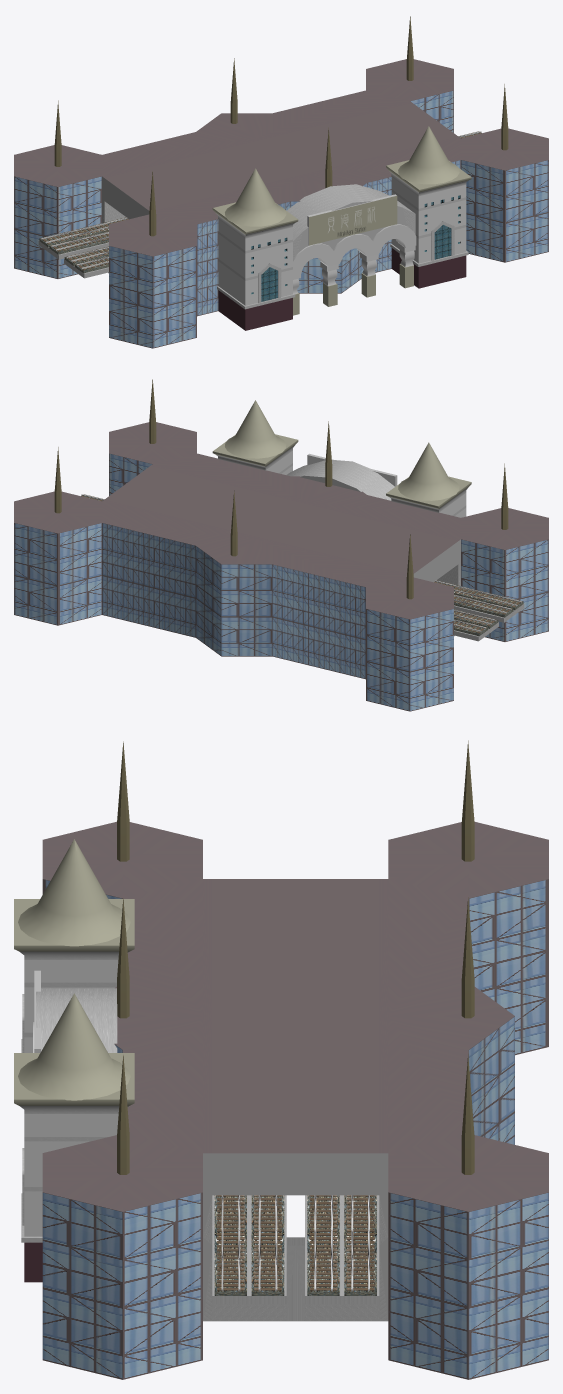
Rendered from mitakiharastation_out2.fbx.
The picture shows the model from 3 angles, top to bottom: view 1: azimuth 30°, elevation 25°; view 2: azimuth 150°, elevation 25°; view 3: azimuth 270°, elevation 25°; orthographic projection. The views are drawn at different scales.
Parts seen in each view (by area): view 1: station2; view 2: station2; view 3: station2.
Part boxes in pixels (box(x1,y1,x2,y2)): station2: box(14, 16, 548, 348); station2: box(14, 379, 548, 711); station2: box(14, 740, 548, 1379).
Size of the model in its own units: 1000 by 342 by 577.
